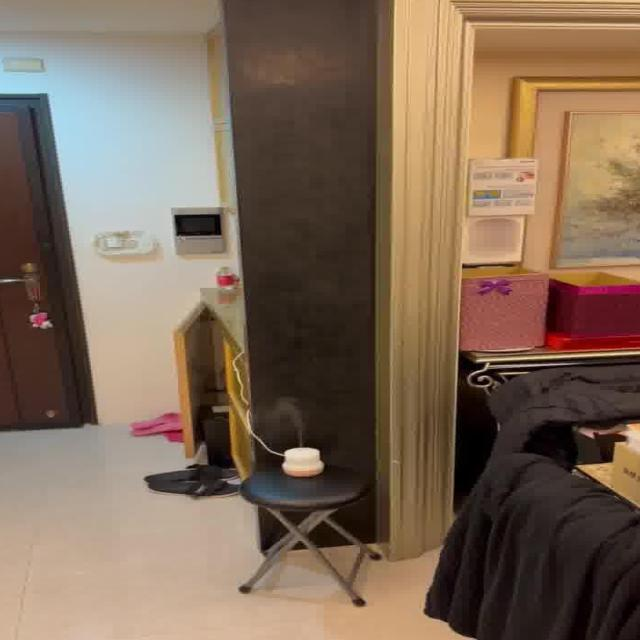fire: (264, 393, 314, 442)
